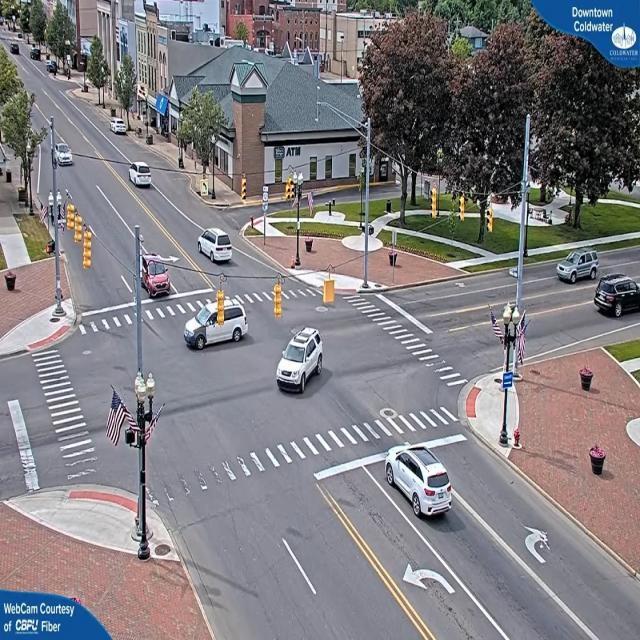car: (386, 445, 453, 520), (180, 298, 250, 354), (276, 331, 326, 395), (593, 273, 640, 319), (557, 248, 599, 284), (198, 229, 236, 264), (140, 256, 171, 294), (126, 162, 152, 187), (53, 142, 73, 168)
